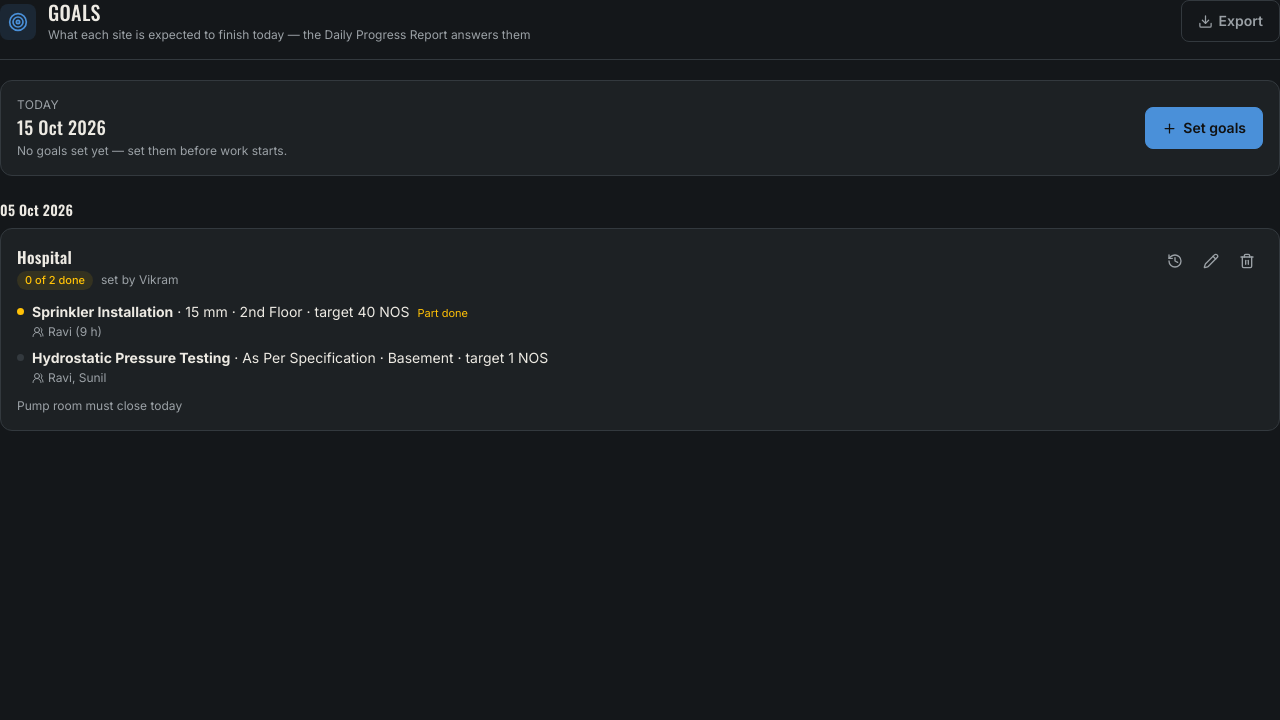
Scenario: interactive paths render › Goals editor shows the crew chips, the day strip and the task picker
This screenshot has width=1280, height=720.
What coordinates should you click on to do the following:
click the button titled "Edit goals"
I would click on:
 (1211, 261)
Its box is 1195,245 -> 1227,277.
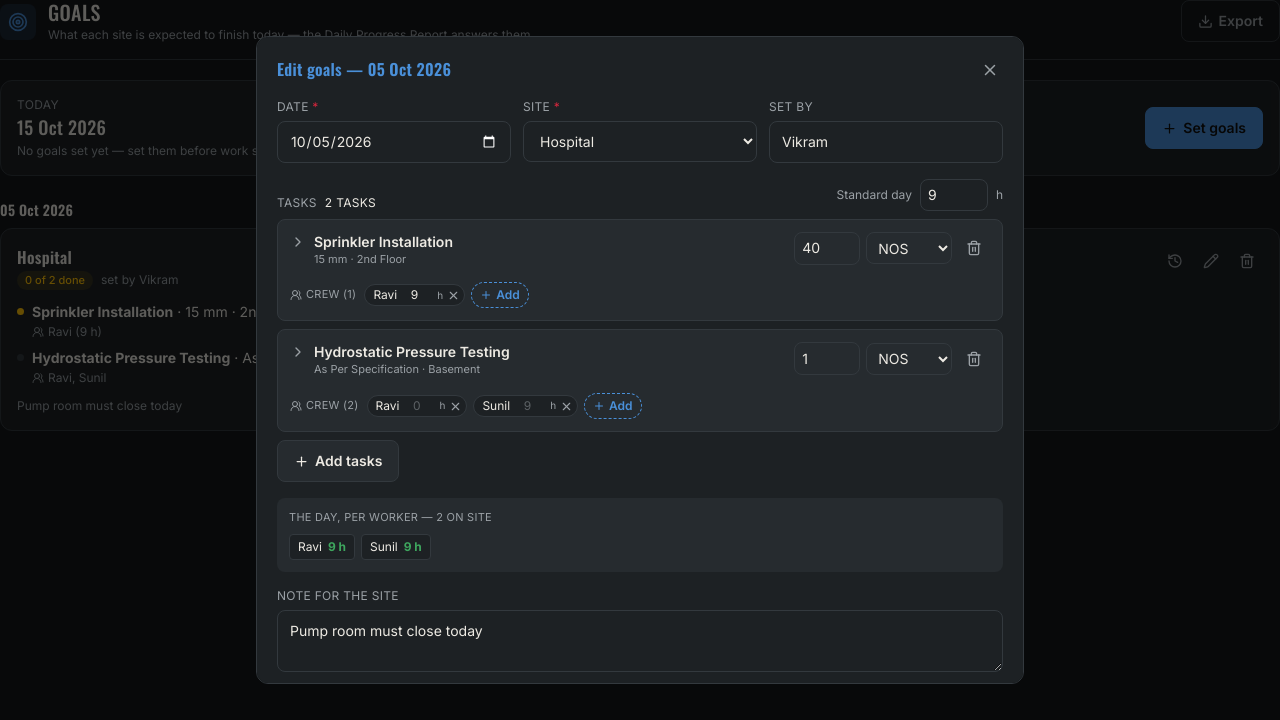
Check: the text "Standard day" is shown, box 837,187 -> 912,202
Check: the text "2 tasks" is shown, box 325,195 -> 376,210
Check: the text "The day, per worker — 2 on site" is shown, box 289,510 -> 492,524
What coordinates should you click on to do the following:
click the button "Add tasks"
I would click on:
 (338, 461)
Its box is 277,440 -> 399,482.
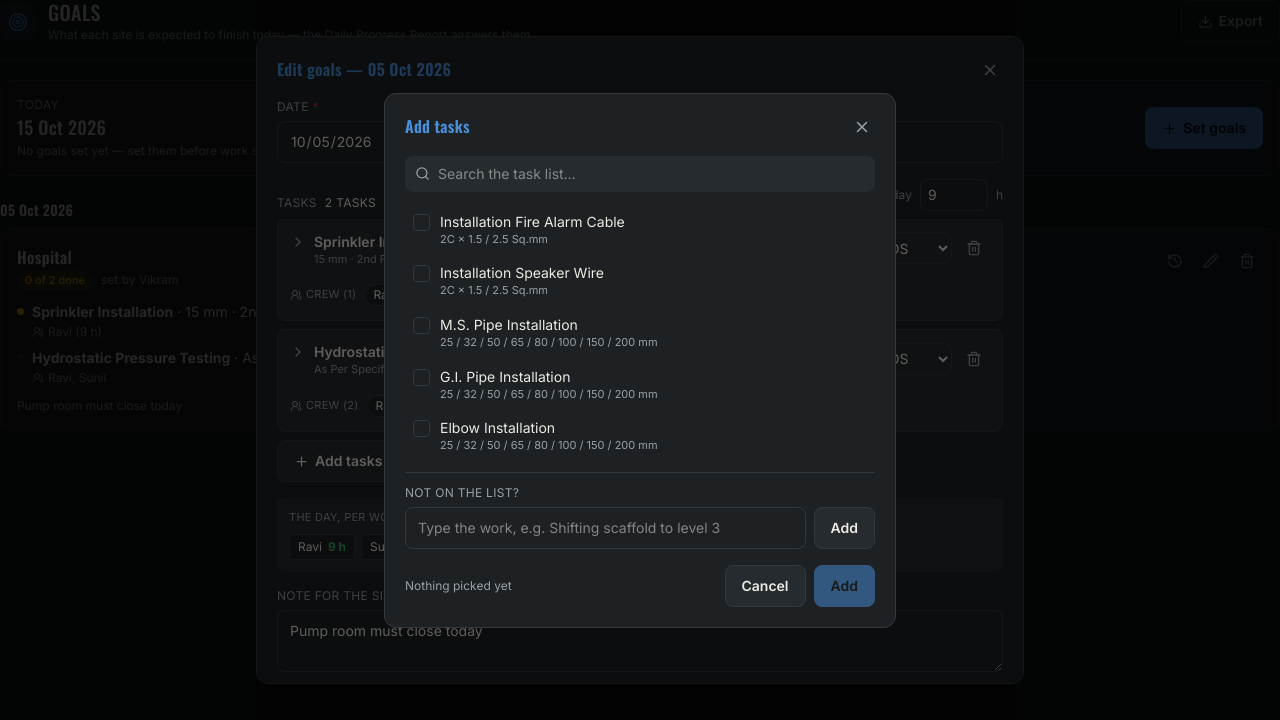
Check: the text "Not on the list?" is shown, box 405,484 -> 519,500
Check: the text "Nothing picked yet" is shown, box 405,578 -> 512,594
